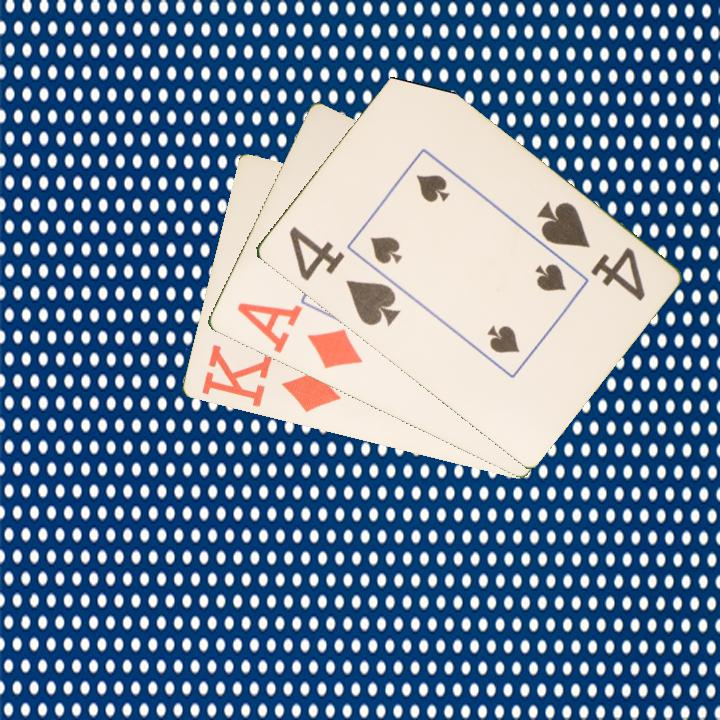4s: (284, 222, 403, 329), (532, 197, 648, 304)
Ad: (233, 298, 366, 372)
Kd: (197, 341, 343, 416)
